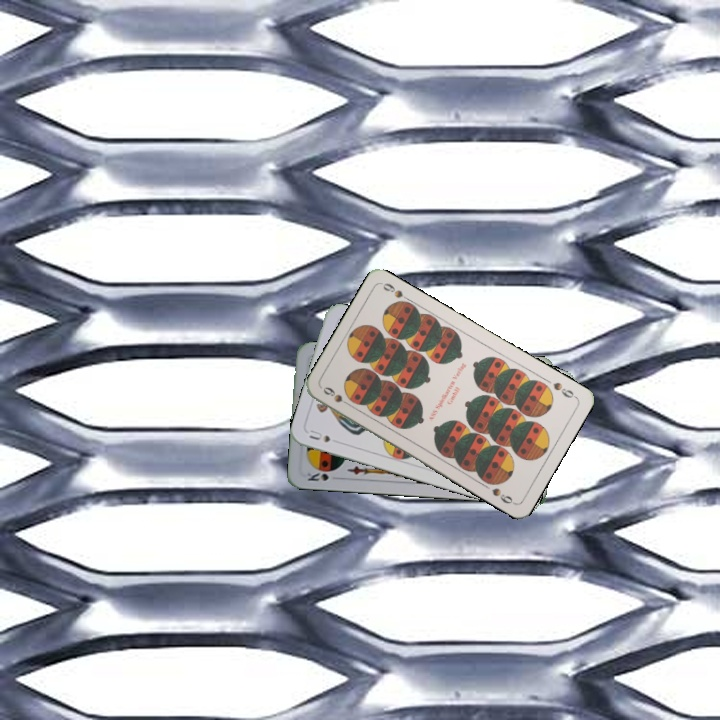S9: (319, 382, 355, 410), (549, 378, 579, 401)
SK: (303, 467, 342, 484)
SU: (305, 426, 333, 445)
